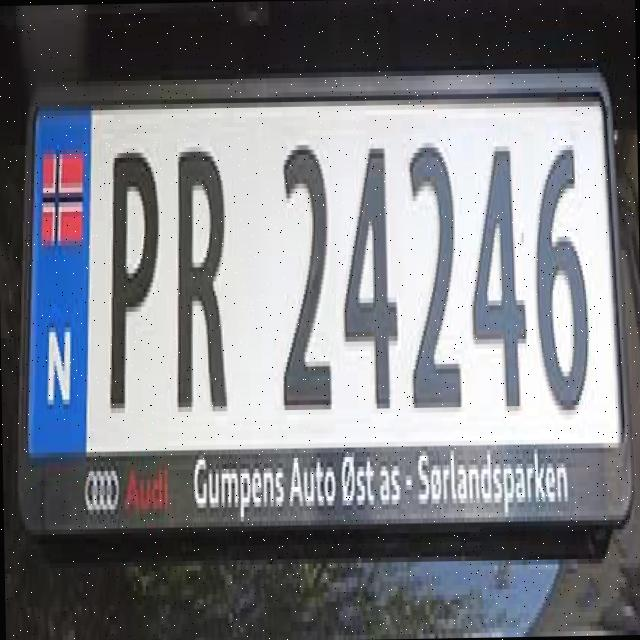EU: (24, 85, 619, 450)
Pays-Bas: (27, 109, 90, 464)
